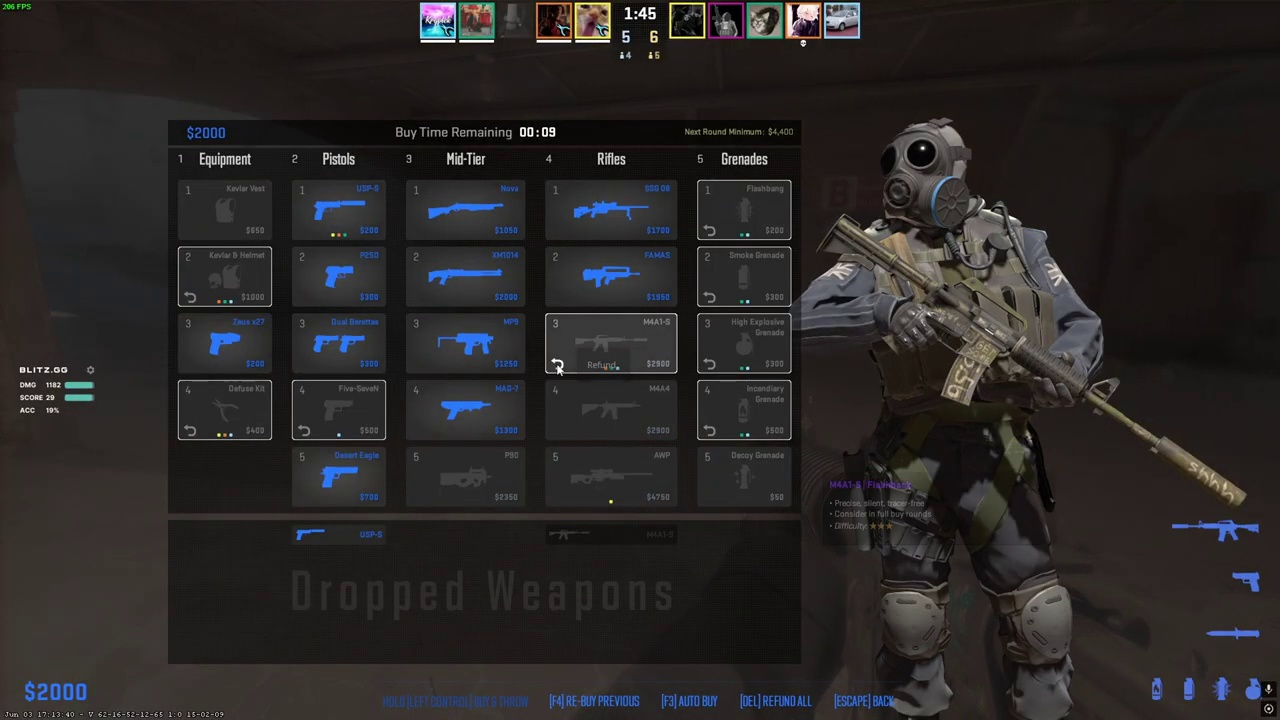CT: (850, 121, 1089, 720)
